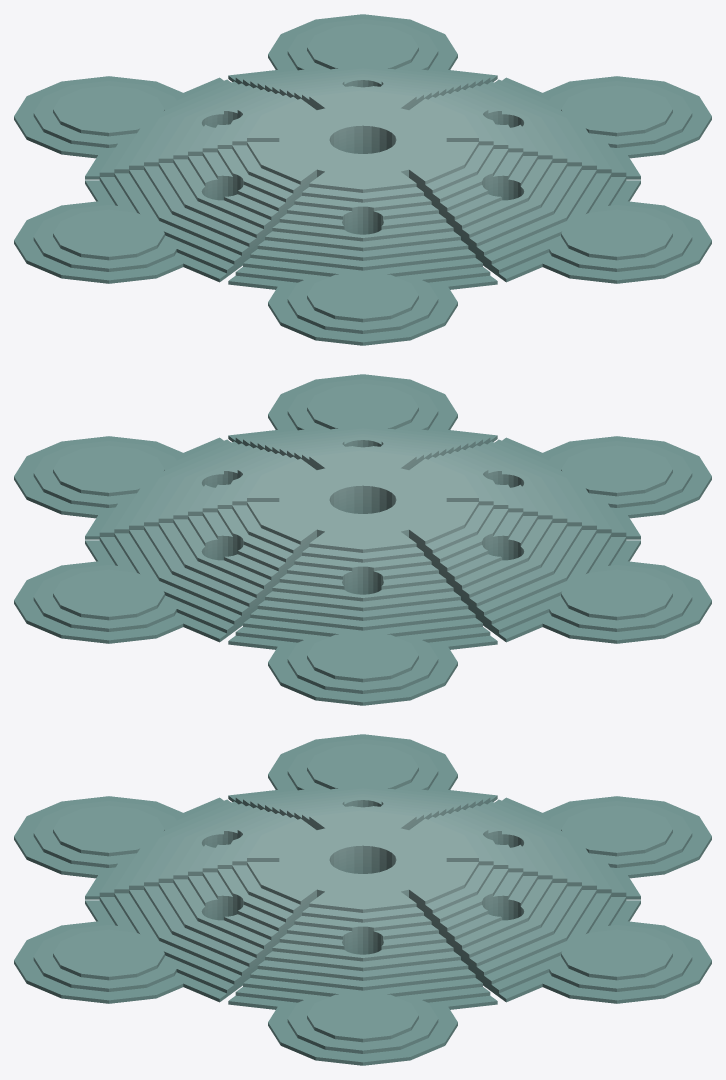
The model's file is case-A-massing.glb.
3 renders of one model, top to bottom at view 1: azimuth 30°, elevation 25°; view 2: azimuth 150°, elevation 25°; view 3: azimuth 270°, elevation 25°, orthographic.
Parts seen in each view (by area): view 1: A_floor_61, A_floor_1, A_floor_31, A_floor_331, A_floor_91, A_floor_121, A_floor_151, A_floor_181, A_floor_211, A_floor_271, A_floor_241, A_floor_301; view 2: A_floor_61, A_floor_1, A_floor_31, A_floor_331, A_floor_91, A_floor_121, A_floor_151, A_floor_181, A_floor_211, A_floor_271, A_floor_241, A_floor_301; view 3: A_floor_61, A_floor_1, A_floor_31, A_floor_331, A_floor_91, A_floor_121, A_floor_151, A_floor_181, A_floor_211, A_floor_271, A_floor_241, A_floor_301.
Boxes of the visible parts, box(x1,y1,x2,y2) form: A_floor_61: box(53, 23, 672, 322); A_floor_1: box(14, 14, 711, 345); A_floor_31: box(33, 19, 692, 333); A_floor_331: box(247, 90, 478, 192); A_floor_91: box(129, 68, 596, 270); A_floor_121: box(144, 71, 581, 260); A_floor_151: box(158, 74, 567, 251); A_floor_181: box(173, 76, 552, 241); A_floor_211: box(188, 81, 537, 229); A_floor_271: box(217, 86, 508, 211); A_floor_241: box(202, 84, 523, 219); A_floor_301: box(232, 87, 493, 202); A_floor_61: box(53, 383, 672, 682); A_floor_1: box(14, 374, 711, 705); A_floor_31: box(33, 379, 692, 693); A_floor_331: box(247, 450, 478, 552); A_floor_91: box(129, 428, 596, 630); A_floor_121: box(144, 431, 581, 620); A_floor_151: box(158, 434, 567, 611); A_floor_181: box(173, 436, 552, 601); A_floor_211: box(188, 441, 537, 589); A_floor_271: box(217, 446, 508, 571); A_floor_241: box(202, 444, 523, 579); A_floor_301: box(232, 447, 493, 562); A_floor_61: box(53, 743, 672, 1042); A_floor_1: box(14, 734, 711, 1065); A_floor_31: box(33, 739, 692, 1053); A_floor_331: box(247, 810, 478, 912); A_floor_91: box(129, 788, 596, 990); A_floor_121: box(144, 791, 581, 980); A_floor_151: box(158, 794, 567, 971); A_floor_181: box(173, 796, 552, 961); A_floor_211: box(188, 801, 537, 949); A_floor_271: box(217, 806, 508, 931); A_floor_241: box(202, 804, 523, 939); A_floor_301: box(232, 807, 493, 922).
Bounding box in the file's own units: 25871 × 1536 × 23253.
